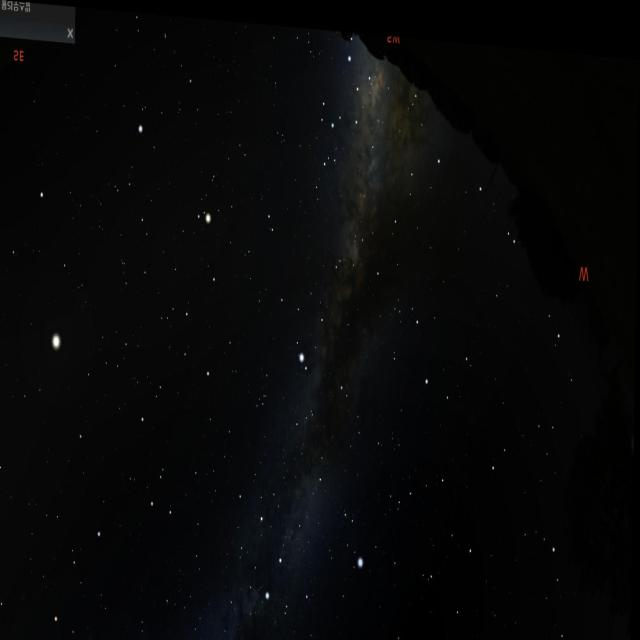aquila: (277, 236, 352, 384)
cygnus: (258, 430, 330, 618)
lyra: (332, 488, 372, 580)
sagittarius: (324, 42, 375, 153)
